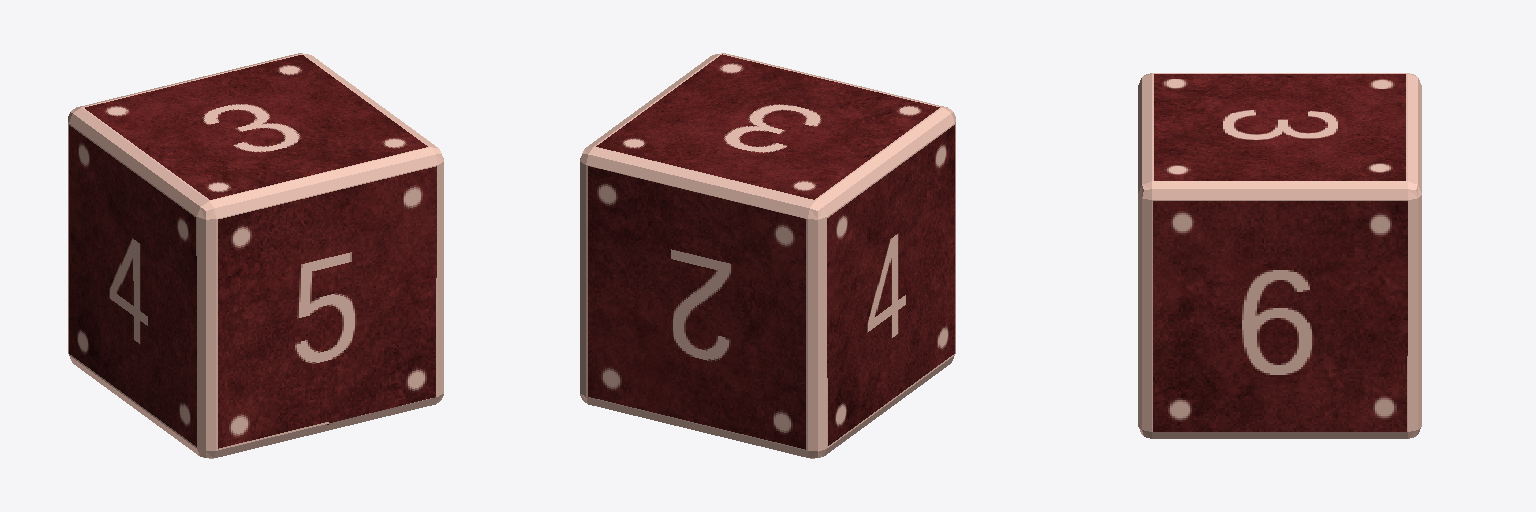
The picture shows the model from 3 angles: view 1: azimuth 30°, elevation 25°; view 2: azimuth 150°, elevation 25°; view 3: azimuth 270°, elevation 25°; orthographic projection.
Visible parts, largest first — view 1: Cube; view 2: Cube; view 3: Cube.
Boxes of the visible parts, x1,y1,x2,y2 form: Cube: [68, 53, 443, 458]; Cube: [580, 53, 955, 458]; Cube: [1138, 73, 1421, 438].
Bounding box in the file's own units: 1 × 1 × 1.
1 materials, 1 textured.